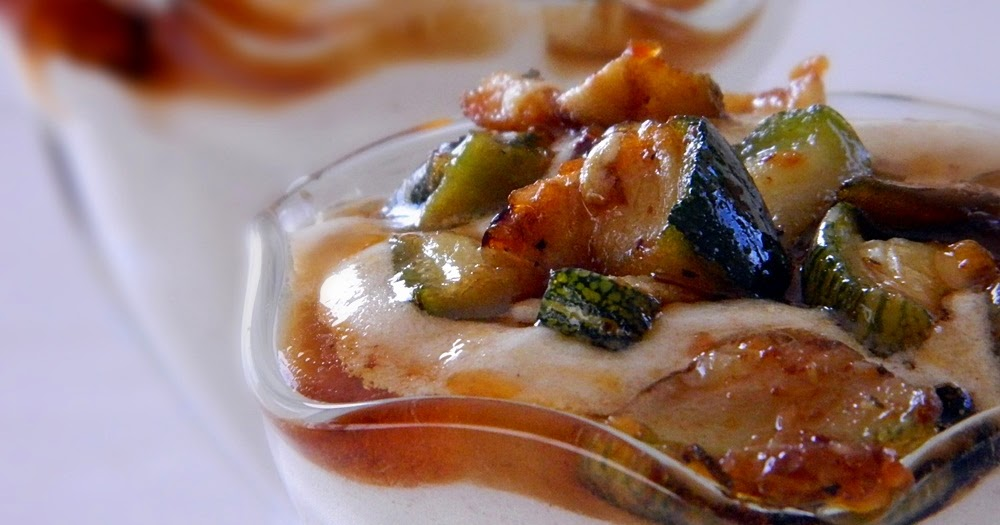bacon: (452, 27, 761, 148)
